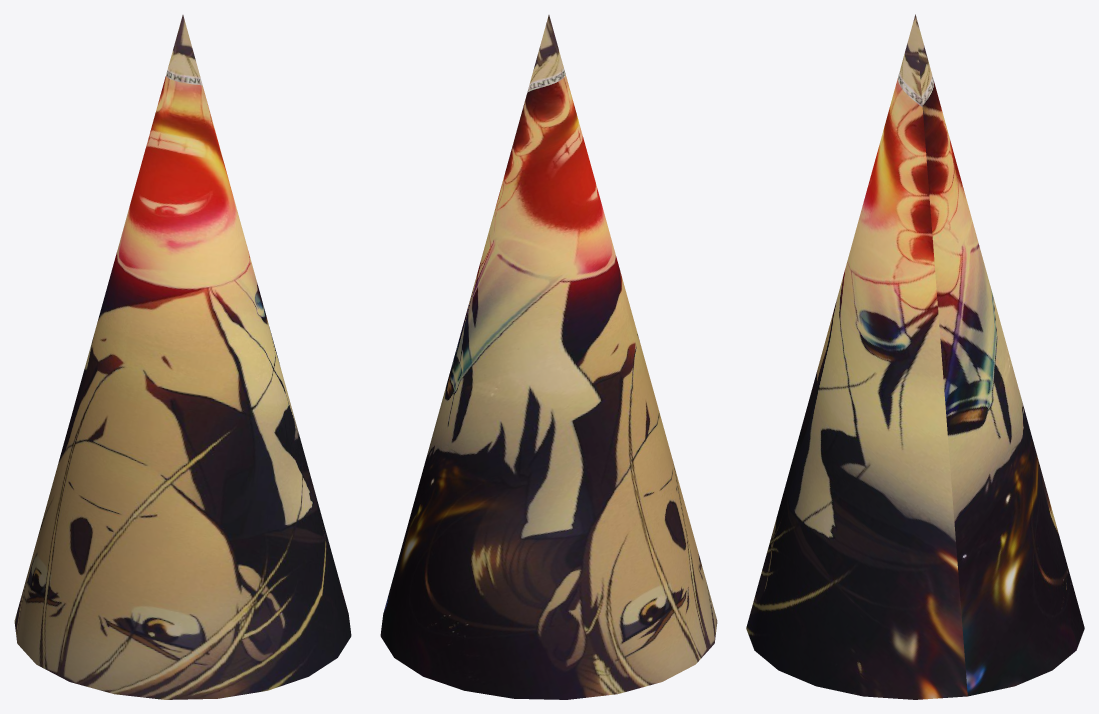
Rendered from LightBulb.gltf.
3 renders of one model, left to right at view 1: azimuth 30°, elevation 25°; view 2: azimuth 150°, elevation 25°; view 3: azimuth 270°, elevation 25°, orthographic.
Parts seen in each view (by area): view 1: LightBulb_MSH; view 2: LightBulb_MSH; view 3: LightBulb_MSH.
Boxes of the visible parts, x1,y1,x2,y2 form: LightBulb_MSH: (14,15,351,699); LightBulb_MSH: (380,15,717,699); LightBulb_MSH: (746,14,1084,699).
Bounding box in the file's own units: 0.1026 × 0.2055 × 0.1026.
Materials: 1 (1 with a texture image).
